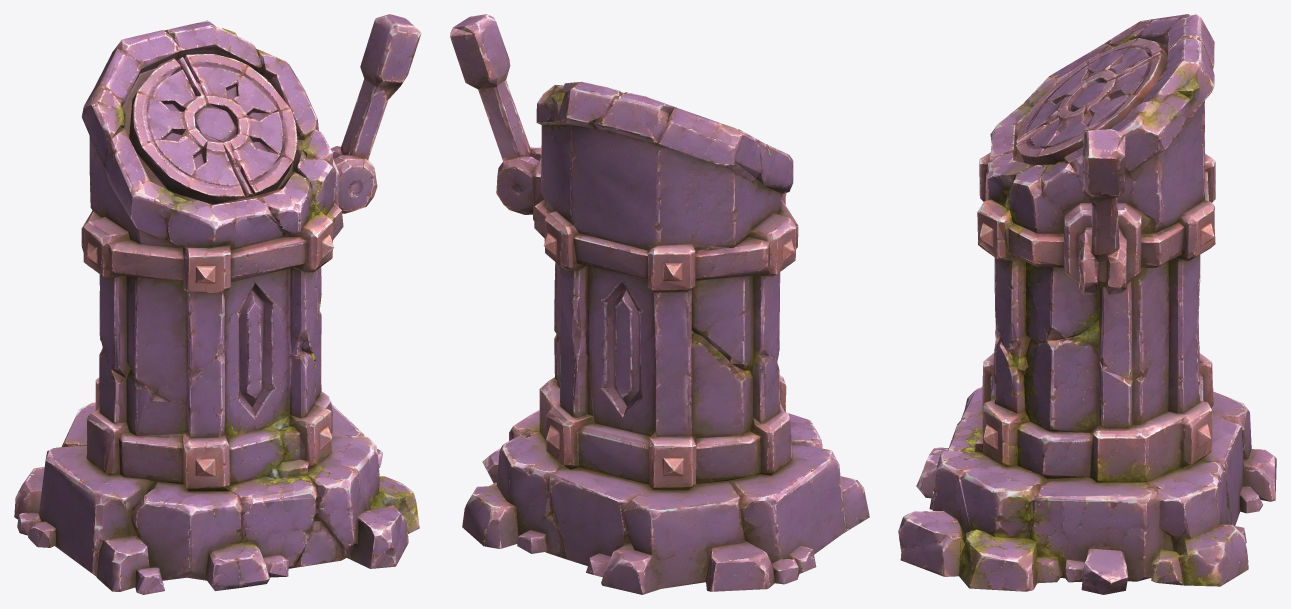
The model's file is rune_switch.glb.
3 views of the same model, side by side, from view 1: azimuth 30°, elevation 25°; view 2: azimuth 150°, elevation 25°; view 3: azimuth 270°, elevation 25° (orthographic). The views are drawn at different scales.
Parts seen in each view (by area): view 1: body; view 2: body; view 3: body.
Part boxes in pixels (x1,y1,x2,y2): body: (14,14,421,594); body: (450,14,869,594); body: (898,14,1276,594).
Size of the model in its own units: 1.09 by 1.3 by 0.9312.
Materials: 1 (1 with a texture image).
